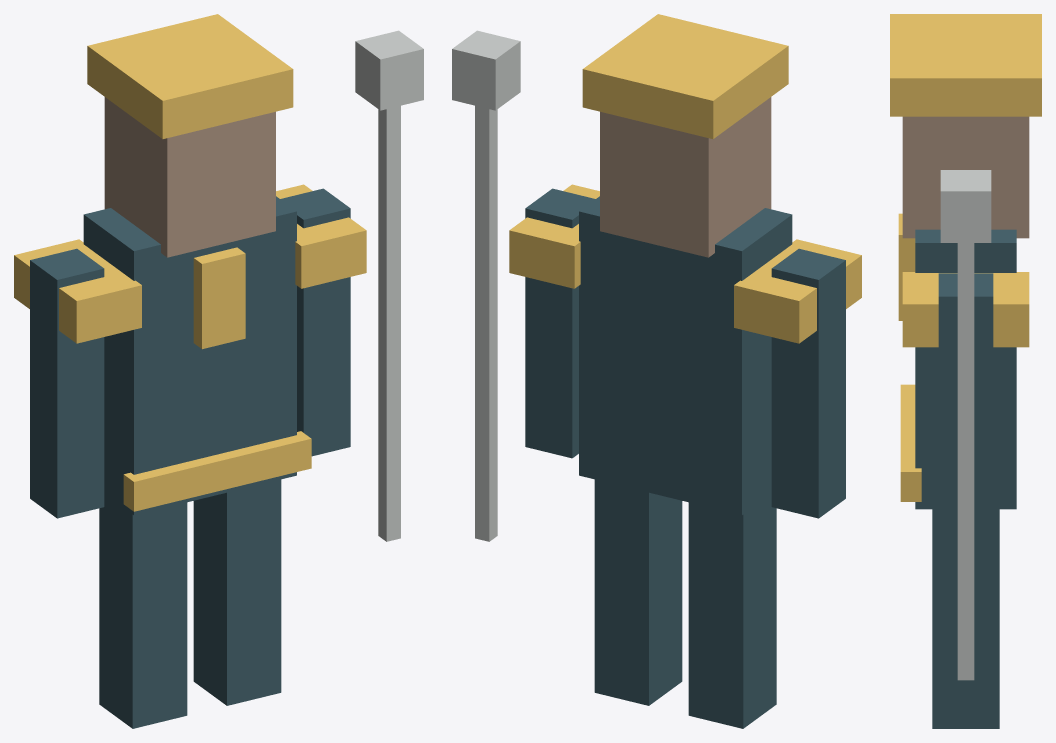
The model's file is 18_draven_echohand_specialist_from_ranger.glb.
The picture shows the model from 3 angles, left to right: view 1: azimuth 30°, elevation 25°; view 2: azimuth 150°, elevation 25°; view 3: azimuth 270°, elevation 25°; orthographic projection.
Visible parts, largest first — view 1: Draven Echohand, Specialist from Ranger; view 2: Draven Echohand, Specialist from Ranger; view 3: Draven Echohand, Specialist from Ranger.
Boxes of the visible parts, box(x1,y1,x2,y2) form: Draven Echohand, Specialist from Ranger: box(14, 14, 423, 728); Draven Echohand, Specialist from Ranger: box(452, 14, 861, 728); Draven Echohand, Specialist from Ranger: box(890, 14, 1041, 728).
Bounding box in the file's own units: 0.9867 × 1.64 × 0.3499.
